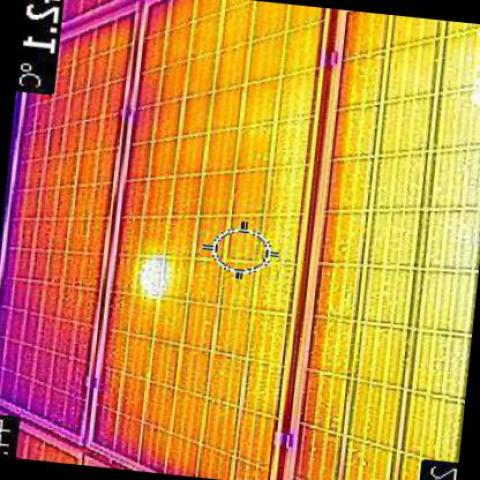fault: (142, 258, 170, 296)
